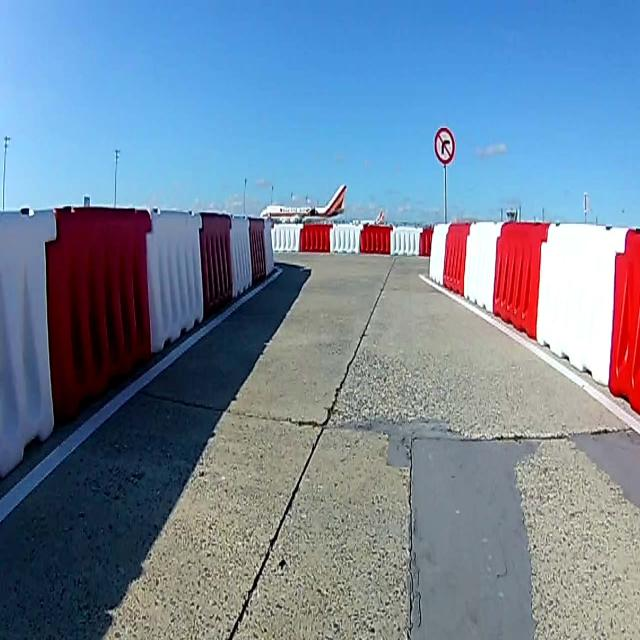sagadonulmez: (435, 128, 455, 164)
